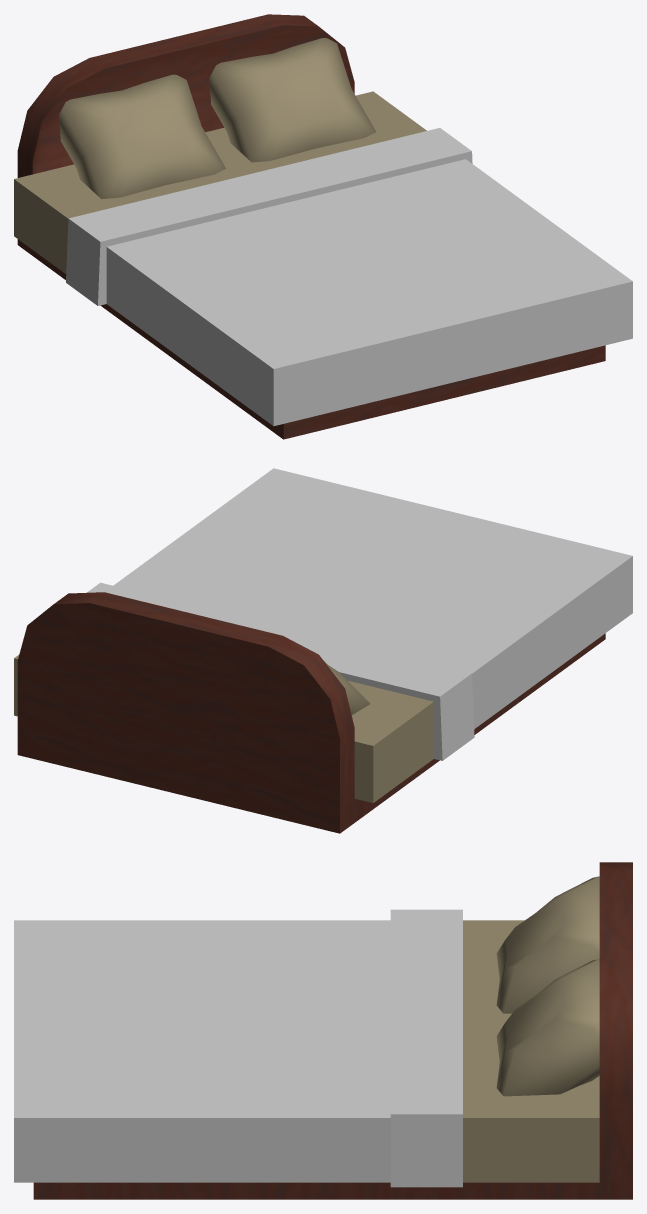
The model's file is Bed.fbx.
3 renders of one model, top to bottom at view 1: azimuth 30°, elevation 25°; view 2: azimuth 150°, elevation 25°; view 3: azimuth 270°, elevation 25°, orthographic. The views are drawn at different scales.
Visible parts, largest first — view 1: Cube.002; view 2: Cube.002; view 3: Cube.002.
Part boxes in pixels (<box>): Cube.002: <box>14,14,632,439</box>; Cube.002: <box>14,468,632,833</box>; Cube.002: <box>14,862,632,1199</box>.
Bounding box in the file's own units: 168 × 72.05 × 211.
